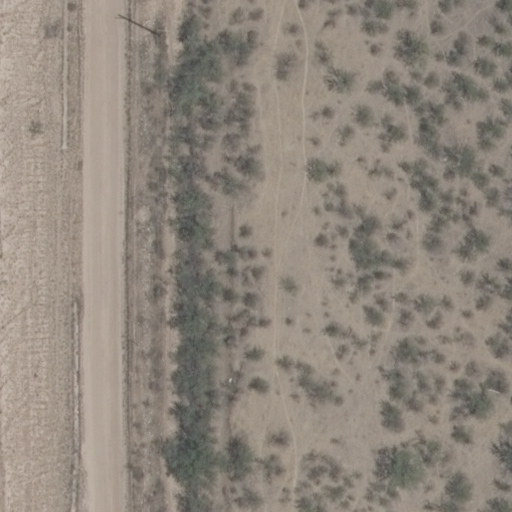DT: (151, 25, 174, 44)
